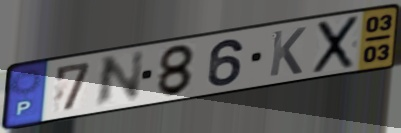6: (207, 37, 246, 88)
7: (53, 60, 92, 113)
8: (155, 43, 197, 99)
K: (267, 25, 309, 79)
N: (91, 48, 147, 112)
X: (311, 13, 362, 77)
